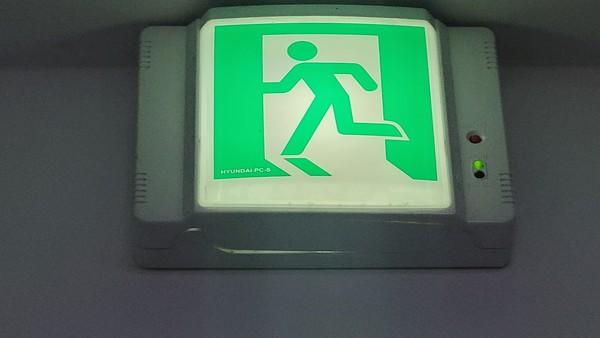emergency_exit: (193, 8, 456, 215)
